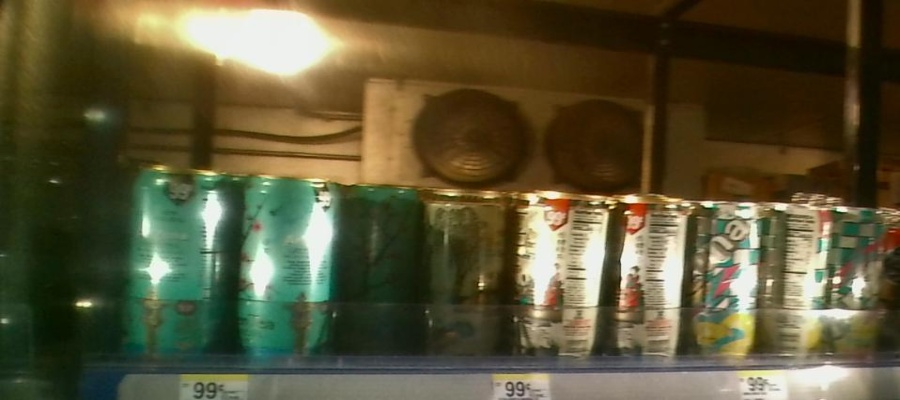bottle: (122, 161, 230, 369), (234, 171, 343, 372), (421, 172, 507, 371), (522, 178, 611, 364), (613, 183, 693, 370), (345, 174, 420, 373), (695, 185, 762, 368), (768, 198, 834, 364), (835, 189, 887, 366)
